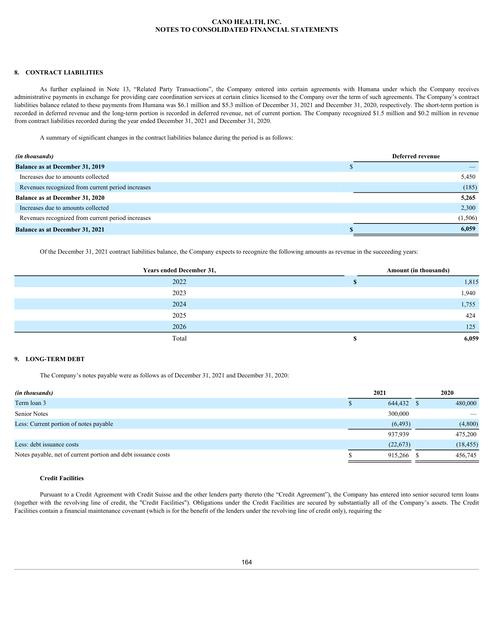box: (13, 150, 482, 239), (13, 265, 482, 344), (13, 386, 484, 464)
